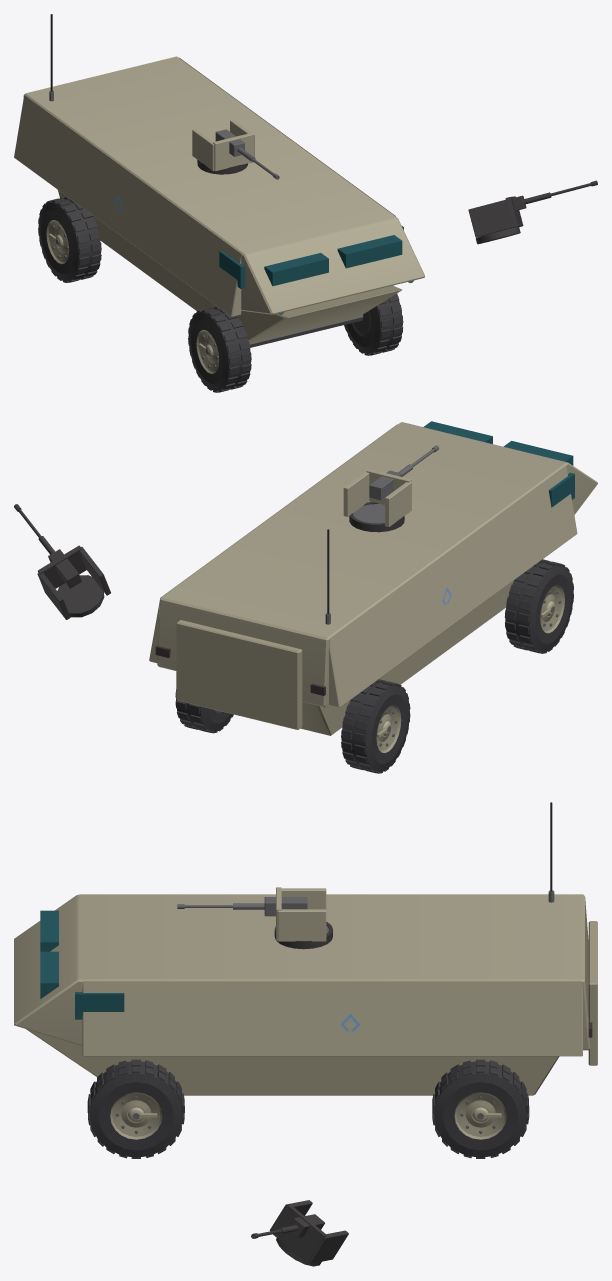
The model's file is apc__rakhsh.glb.
3 renders of one model, top to bottom at view 1: azimuth 30°, elevation 25°; view 2: azimuth 150°, elevation 25°; view 3: azimuth 270°, elevation 25°, orthographic. The views are drawn at different scales.
Visible parts, largest first — view 1: Hull_Mesh, Wheel_L1_Mesh, Wheel_L0_Mesh, Wreck, Wheel_R1_Mesh, Turret_Mesh, Gun_Mesh; view 2: Hull_Mesh, Wheel_L0_Mesh, Wheel_L1_Mesh, Wreck, Turret_Mesh, Wheel_R0_Mesh, Gun_Mesh; view 3: Hull_Mesh, Wheel_R0_Mesh, Wheel_R1_Mesh, Wreck, Turret_Mesh, Gun_Mesh.
Part boxes in pixels (box(x1,y1,x2,y2)): Hull_Mesh: box(14, 14, 424, 347); Wheel_L1_Mesh: box(188, 306, 251, 392); Wheel_L0_Mesh: box(38, 196, 101, 282); Wreck: box(51, 160, 597, 390); Wheel_R1_Mesh: box(344, 285, 403, 355); Turret_Mesh: box(192, 119, 254, 171); Gun_Mesh: box(215, 129, 279, 179); Hull_Mesh: box(149, 421, 597, 735); Wheel_L0_Mesh: box(341, 679, 410, 773); Wheel_L1_Mesh: box(504, 559, 573, 653); Wreck: box(14, 502, 546, 732); Turret_Mesh: box(343, 469, 411, 526); Wheel_R0_Mesh: box(175, 689, 233, 733); Gun_Mesh: box(369, 445, 439, 500); Hull_Mesh: box(14, 802, 597, 1095); Wheel_R0_Mesh: box(432, 1059, 529, 1158); Wheel_R1_Mesh: box(87, 1059, 184, 1158); Wreck: box(140, 921, 509, 1266); Turret_Mesh: box(276, 887, 328, 941); Gun_Mesh: box(177, 897, 307, 916).
Size of what is drawn, in the model's own units: 6.3 by 3.23 by 6.27.
